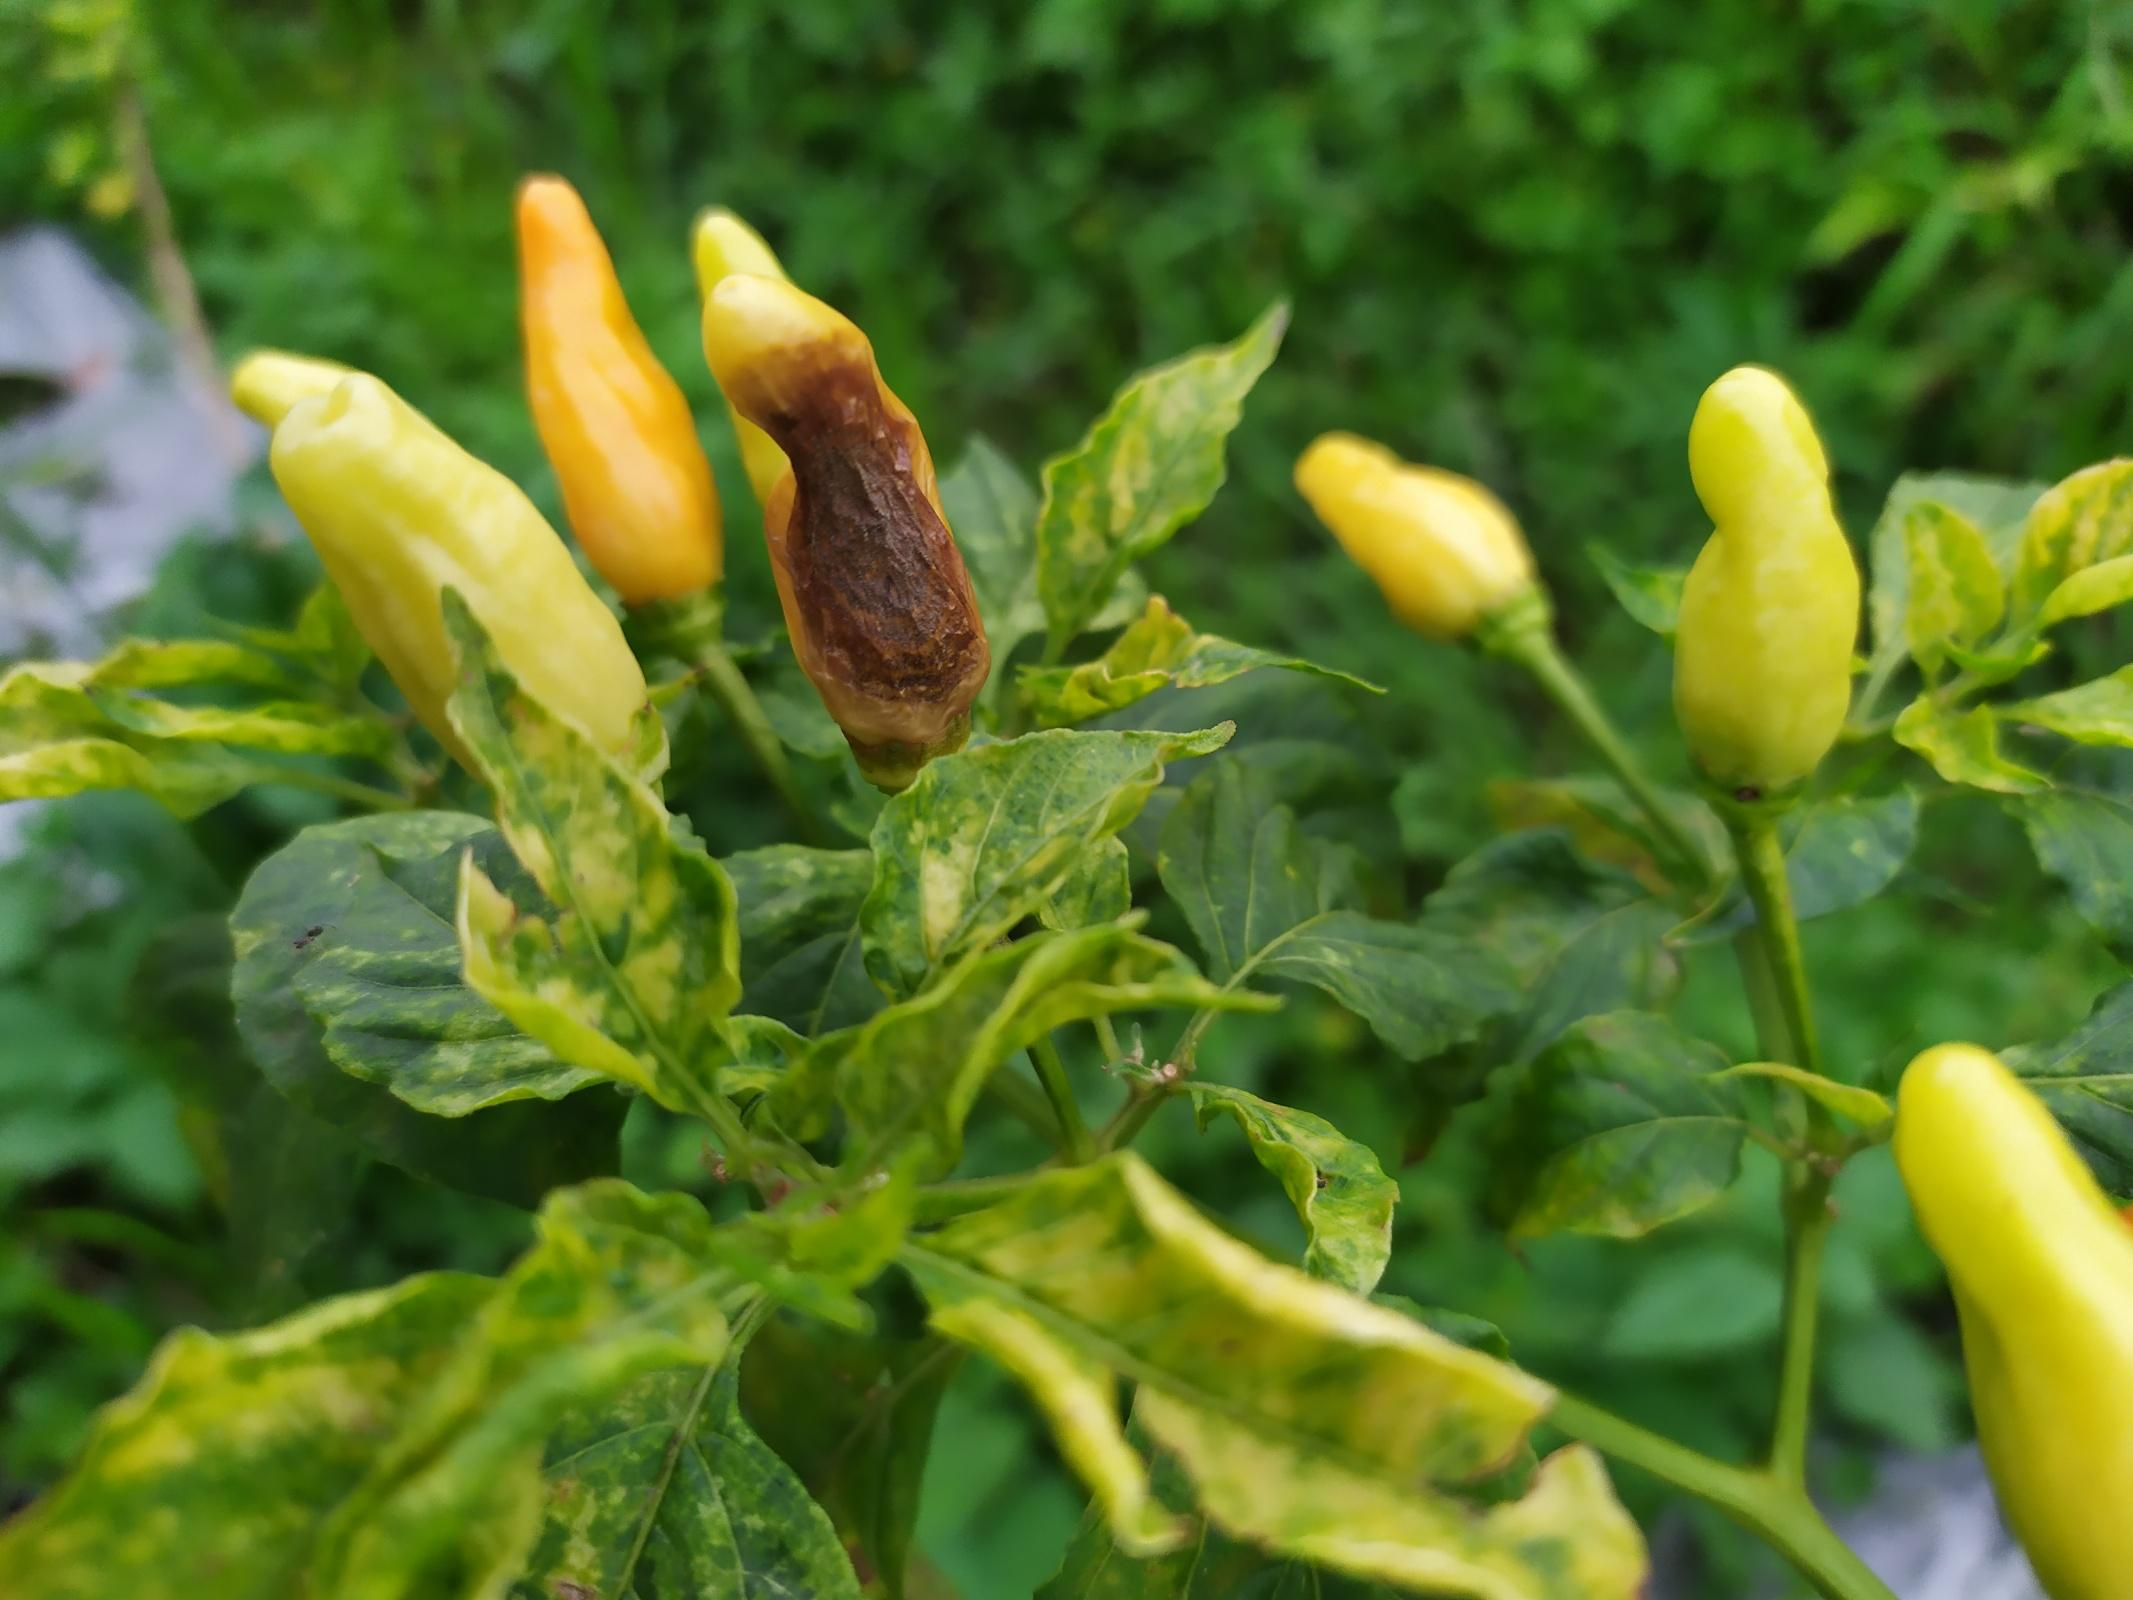antraknosa: (703, 271, 995, 783)
cabai_normal: (225, 353, 652, 788), (1898, 1044, 2133, 1600), (514, 180, 726, 618), (1667, 366, 1867, 805), (1289, 434, 1541, 645)
